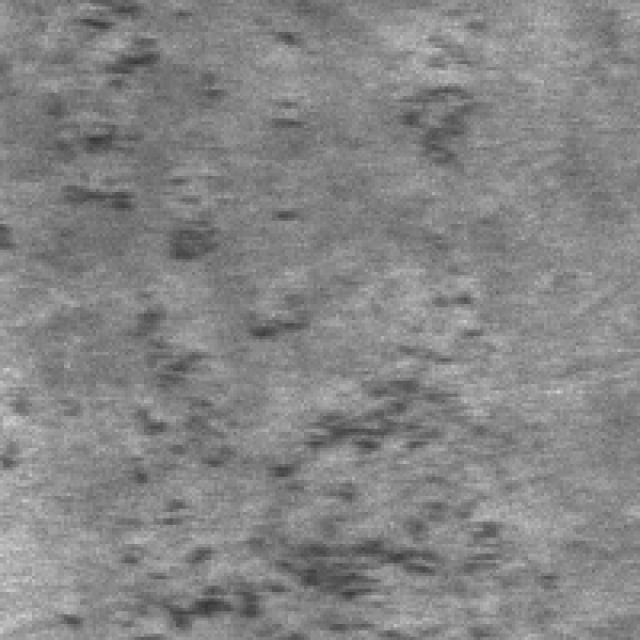rolled-in_scale: (89, 288, 556, 634), (26, 0, 300, 339), (380, 0, 490, 170)
